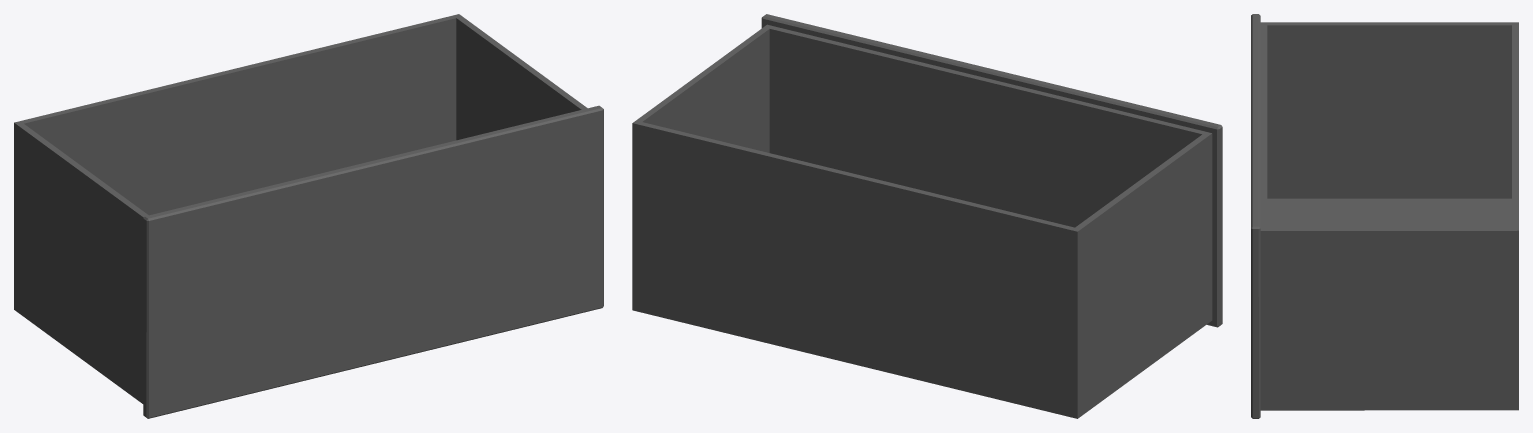
File: Desk_323_1_DrawerMesh_03.obj
3 renders of one model, left to right at view 1: azimuth 30°, elevation 25°; view 2: azimuth 150°, elevation 25°; view 3: azimuth 270°, elevation 25°, orthographic. The views are drawn at different scales.
Size of the model in its own units: 0.6326 by 0.2646 by 0.3343.
